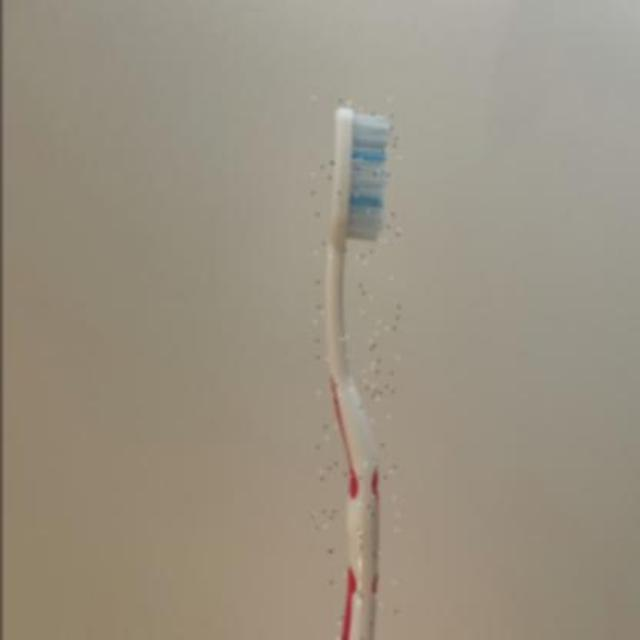toothbrush: (312, 92, 398, 640)
